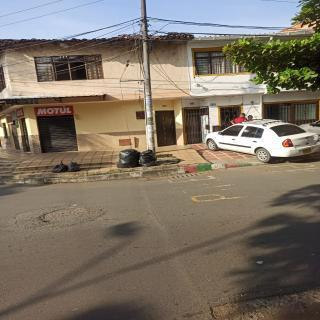Garbage: (116, 147, 140, 168), (139, 150, 158, 168), (51, 161, 69, 173), (67, 161, 82, 172)
